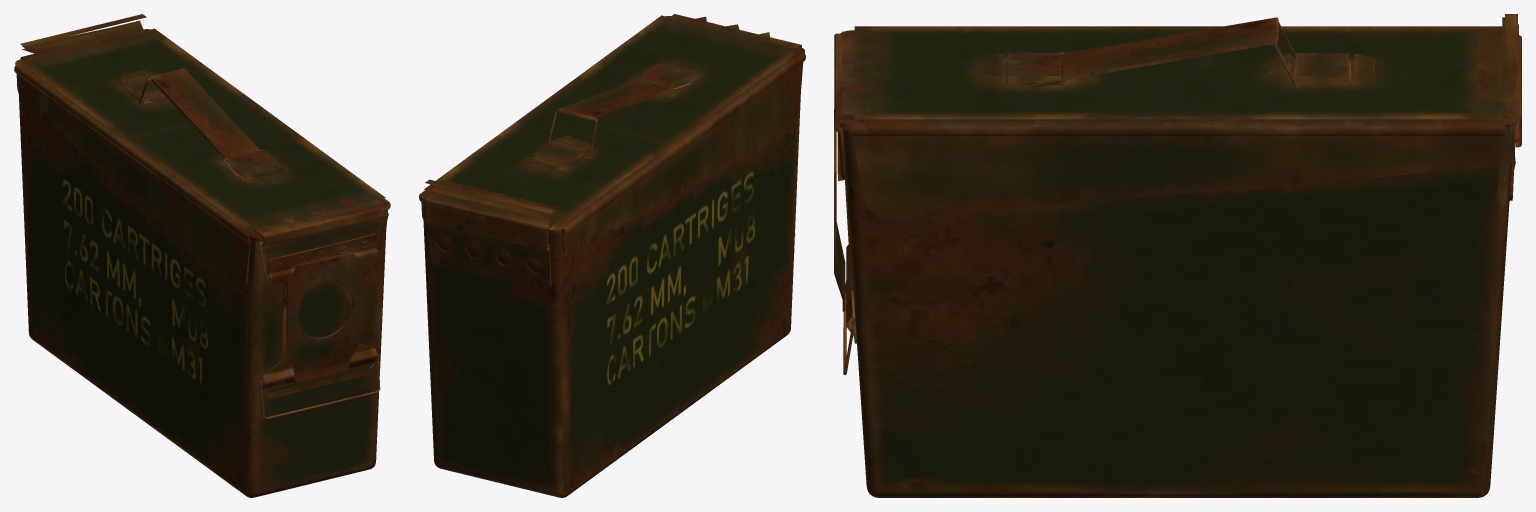
File: ammo_box.glb
3 views of the same model, side by side, from view 1: azimuth 30°, elevation 25°; view 2: azimuth 150°, elevation 25°; view 3: azimuth 270°, elevation 25° (orthographic). The views are drawn at different scales.
Parts seen in each view (by area): view 1: ammo_box_handle_ring_b; view 2: ammo_box_handle_ring_b; view 3: ammo_box_handle_ring_b.
Boxes of the visible parts, left/top/right/bottom form: ammo_box_handle_ring_b: left=14, top=14, right=390, bottom=497; ammo_box_handle_ring_b: left=419, top=14, right=805, bottom=497; ammo_box_handle_ring_b: left=834, top=14, right=1521, bottom=497.
Size of the model in its own units: 0.0866 by 0.1775 by 0.2579.
1 material, 1 textured.
